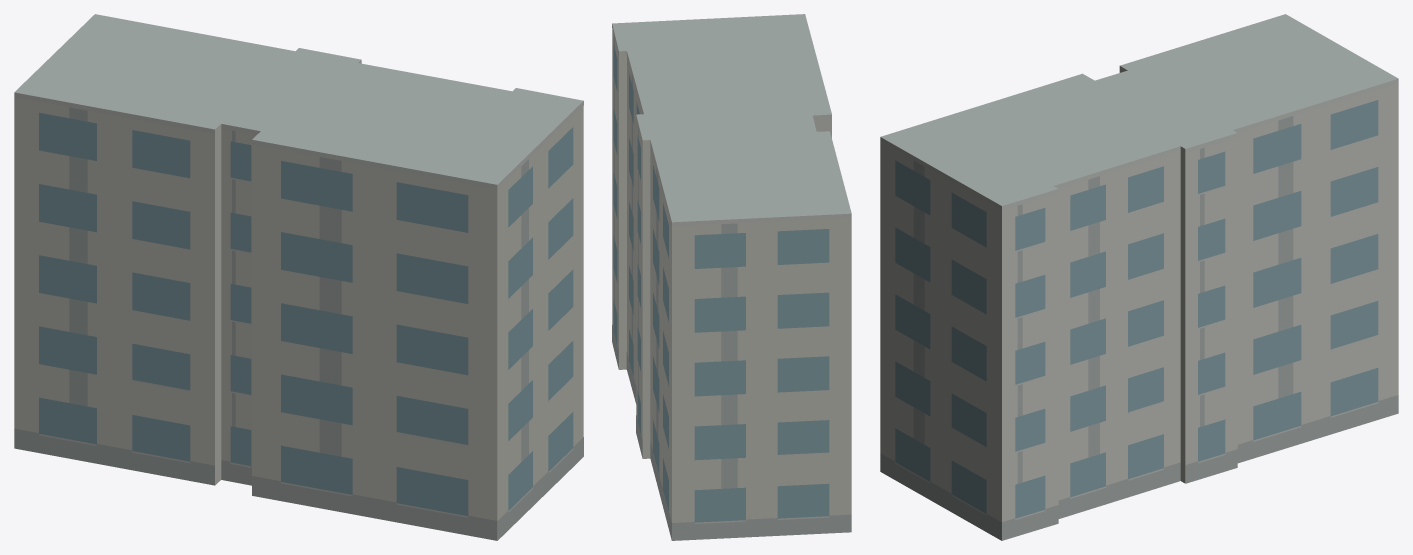
File: survey-upis-32805754.glb
3 renders of one model, left to right at view 1: azimuth 30°, elevation 25°; view 2: azimuth 150°, elevation 25°; view 3: azimuth 270°, elevation 25°, orthographic. The views are drawn at different scales.
Parts seen in each view (by area): view 1: survey-upis-32805754.tmp; view 2: survey-upis-32805754.tmp; view 3: survey-upis-32805754.tmp.
Boxes of the visible parts, x1,y1,x2,y2 form: survey-upis-32805754.tmp: (14,14,583,540); survey-upis-32805754.tmp: (612,14,851,540); survey-upis-32805754.tmp: (880,14,1398,540).
Size of the model in its own units: 22.15 by 18 by 25.27.
